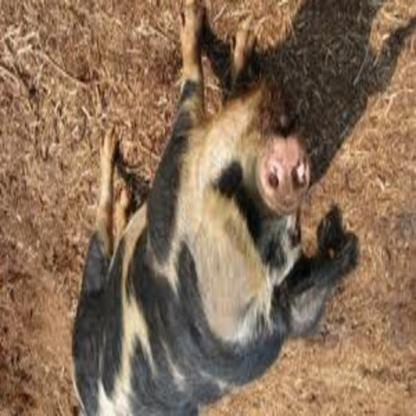boar: (70, 2, 358, 416)
